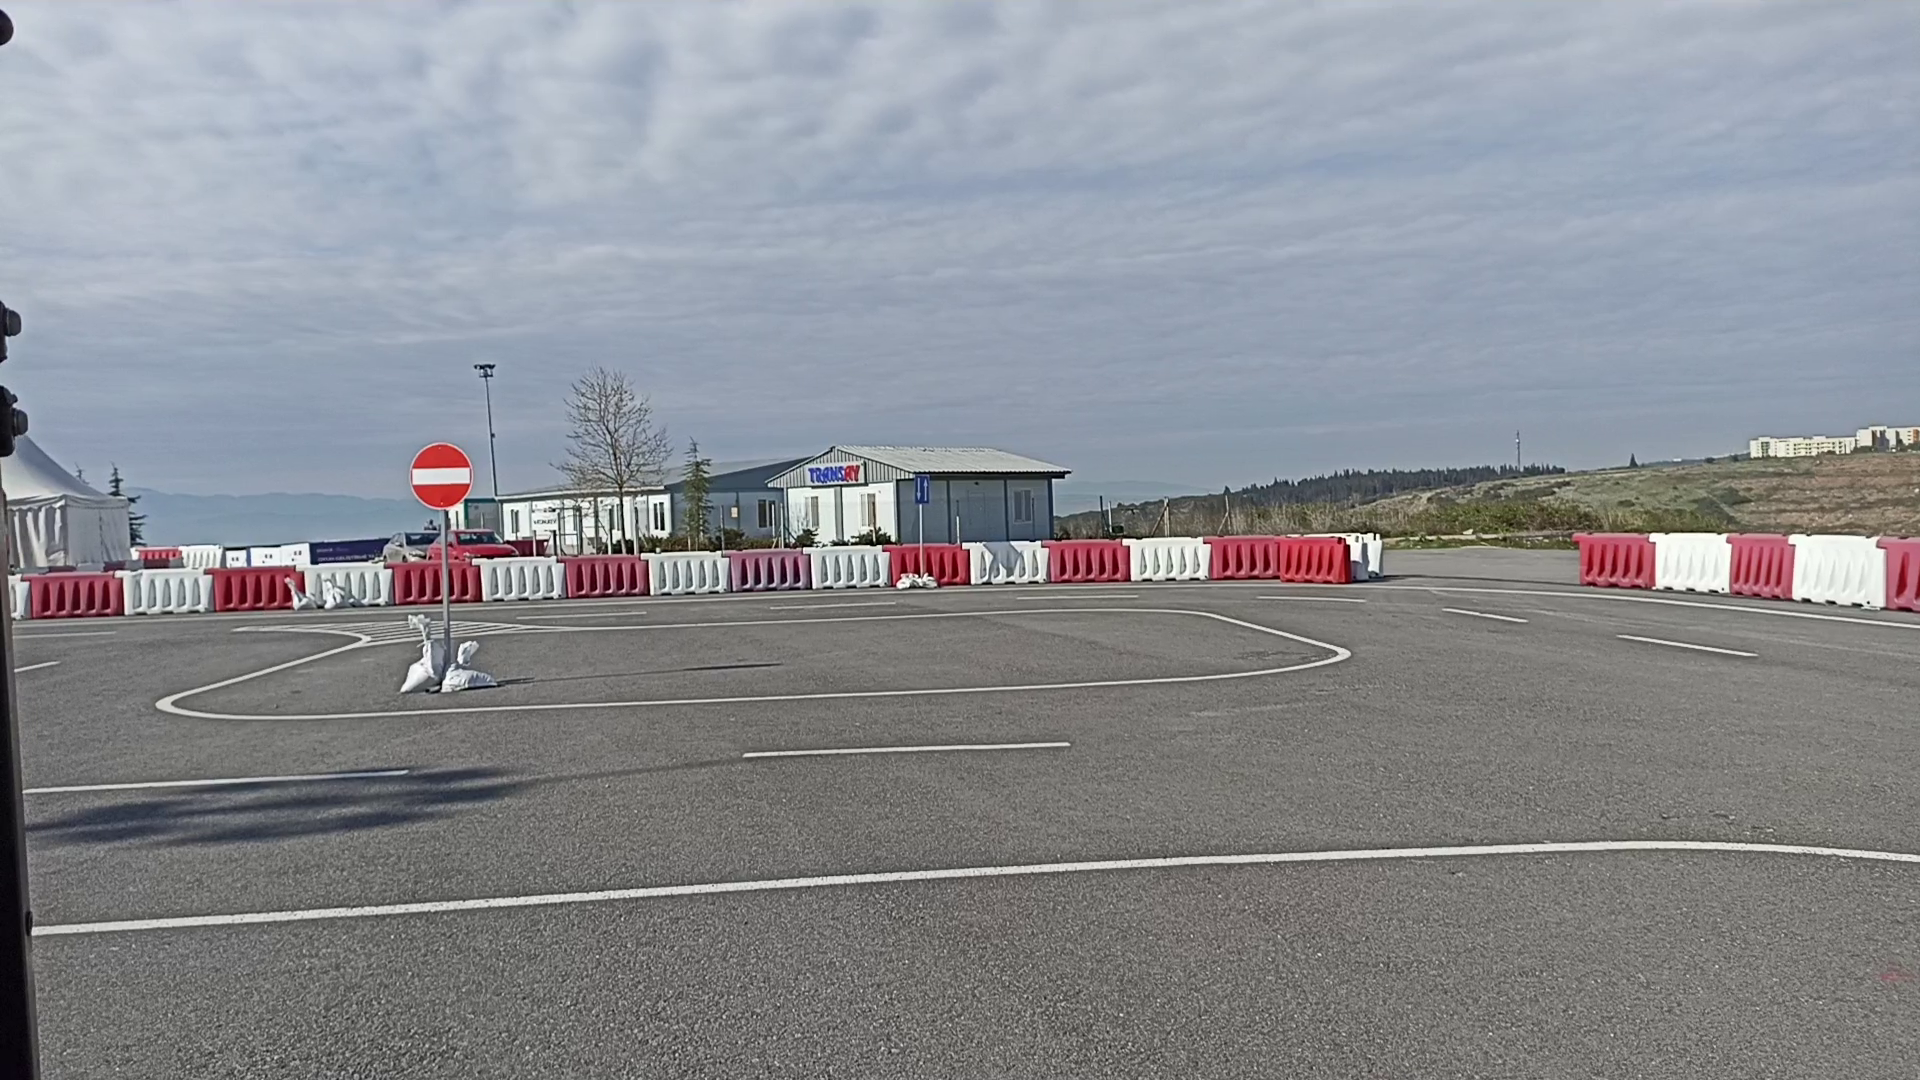noentryway: (407, 440, 475, 512)
